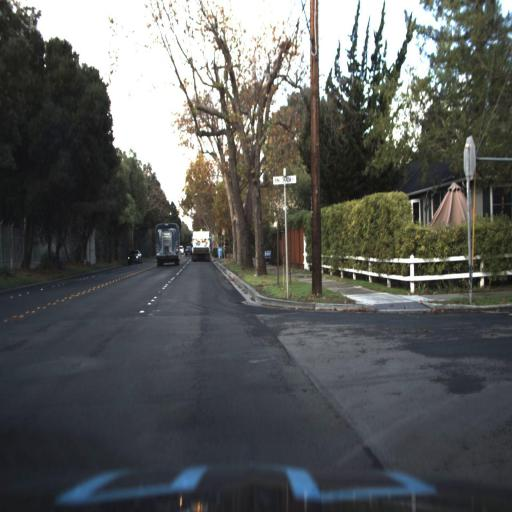car: (126, 244, 142, 267), (126, 248, 144, 267)
truck: (150, 219, 180, 267), (187, 227, 211, 265)
